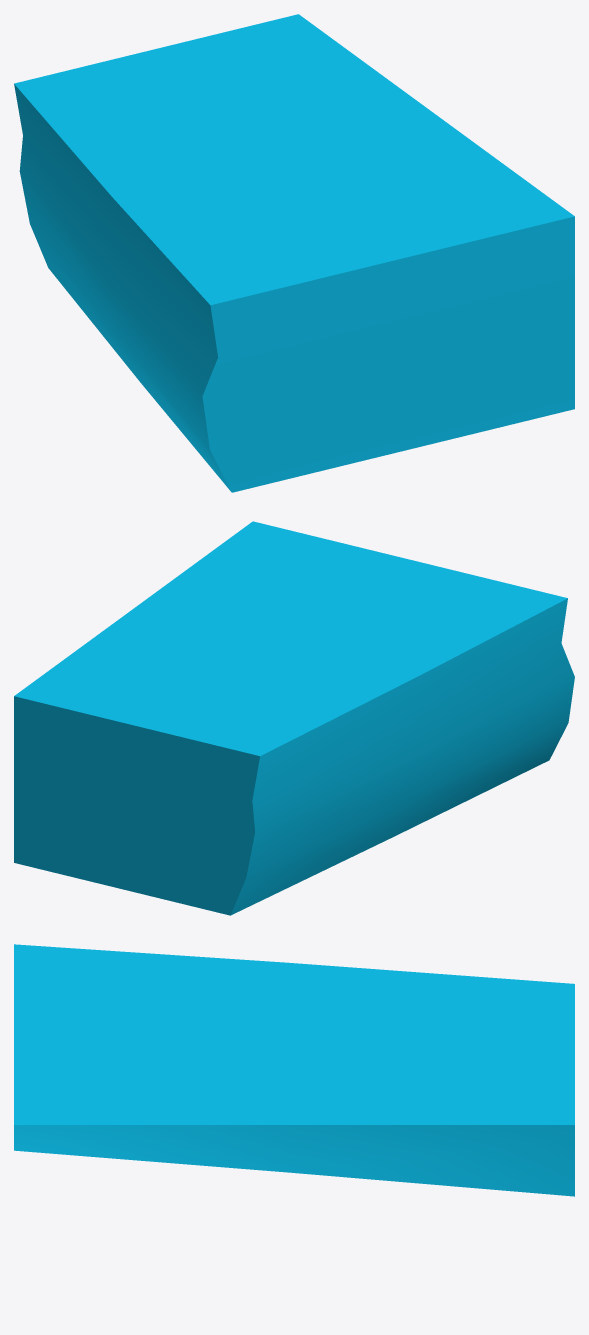
The model's file is woda_1_4_2.FBX.
The picture shows the model from 3 angles, top to bottom: view 1: azimuth 30°, elevation 25°; view 2: azimuth 150°, elevation 25°; view 3: azimuth 270°, elevation 25°; orthographic projection. The views are drawn at different scales.
Parts seen in each view (by area): view 1: woda_1_4_2; view 2: woda_1_4_2; view 3: woda_1_4_2.
Boxes of the visible parts, x1,y1,x2,y2 form: woda_1_4_2: (14,14,574,492); woda_1_4_2: (14,521,574,915); woda_1_4_2: (14,944,574,1196).
Size of the model in its own units: 9.6 by 4.74 by 12.33.
